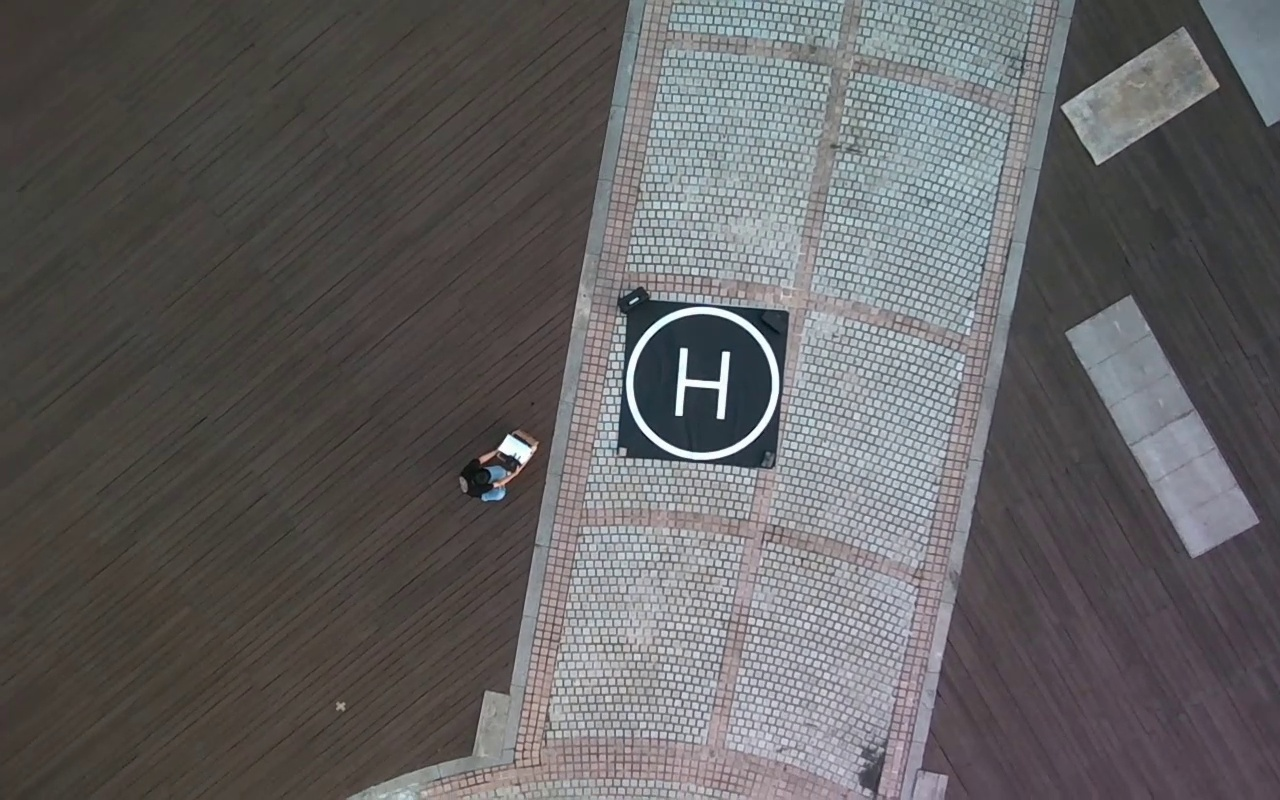H: (674, 347, 732, 422)
heliport: (626, 304, 781, 461)
